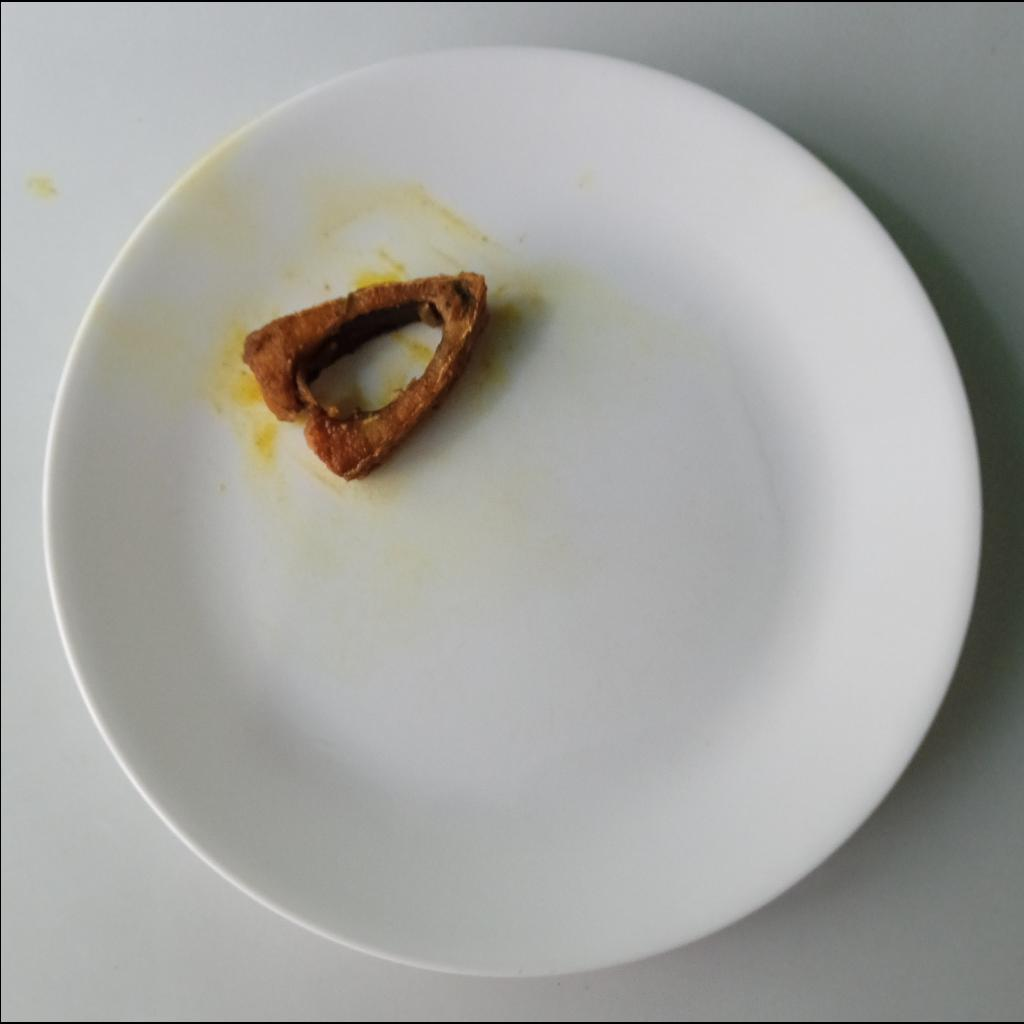fish: (241, 272, 488, 481)
